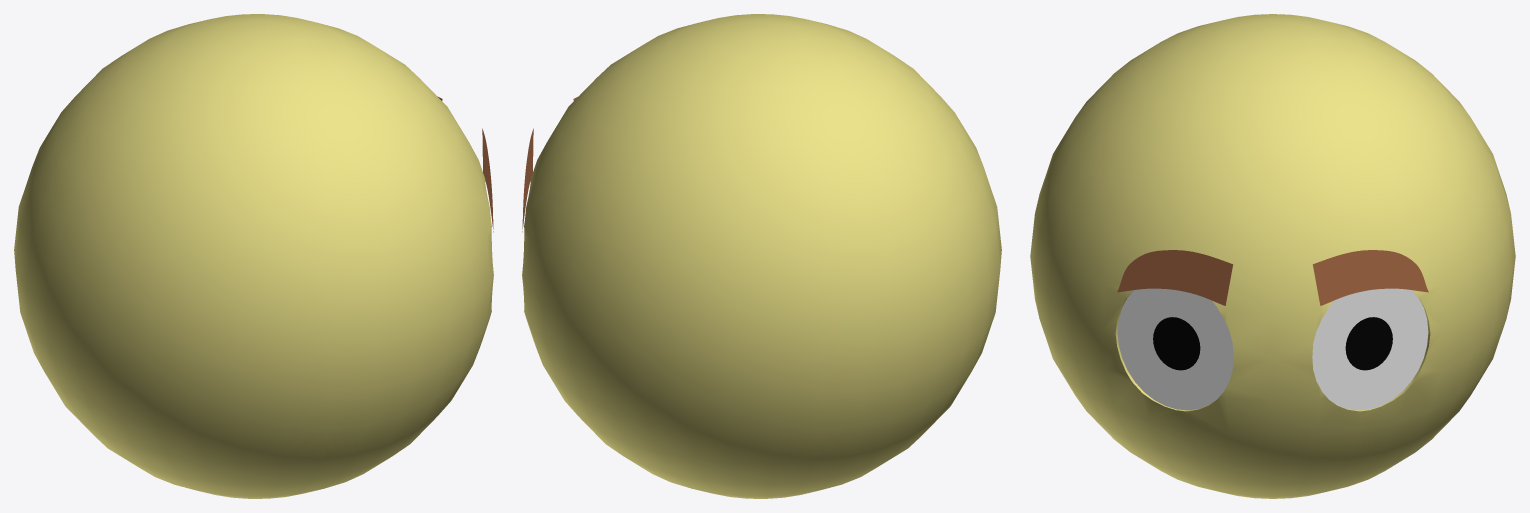
Rendered from FINE.fbx.
The picture shows the model from 3 angles, left to right: view 1: azimuth 30°, elevation 25°; view 2: azimuth 150°, elevation 25°; view 3: azimuth 270°, elevation 25°; orthographic projection.
Parts seen in each view (by area): view 1: Sphere, Sphere.001; view 2: Sphere, Sphere.001; view 3: Sphere, Sphere.001, Cylinder, Cylinder.001, Cylinder.003, BézierCurve.002, BézierCurve.001, Cylinder.002.
Part boxes in pixels (x1=…): Sphere: x1=14, y1=14, x2=493, y2=498; Sphere.001: x1=15, y1=16, x2=493, y2=498; Sphere: x1=522, y1=16, x2=1000, y2=498; Sphere.001: x1=522, y1=14, x2=1001, y2=498; Sphere: x1=1031, y1=14, x2=1515, y2=498; Sphere.001: x1=1030, y1=14, x2=1515, y2=498; Cylinder: x1=1117, y1=288, x2=1233, y2=410; Cylinder.001: x1=1312, y1=288, x2=1428, y2=408; Cylinder.003: x1=1312, y1=295, x2=1428, y2=410; BézierCurve.002: x1=1117, y1=250, x2=1233, y2=305; BézierCurve.001: x1=1312, y1=250, x2=1428, y2=305; Cylinder.002: x1=1117, y1=288, x2=1233, y2=410.
Size of the model in its own units: 25 by 25 by 25.
